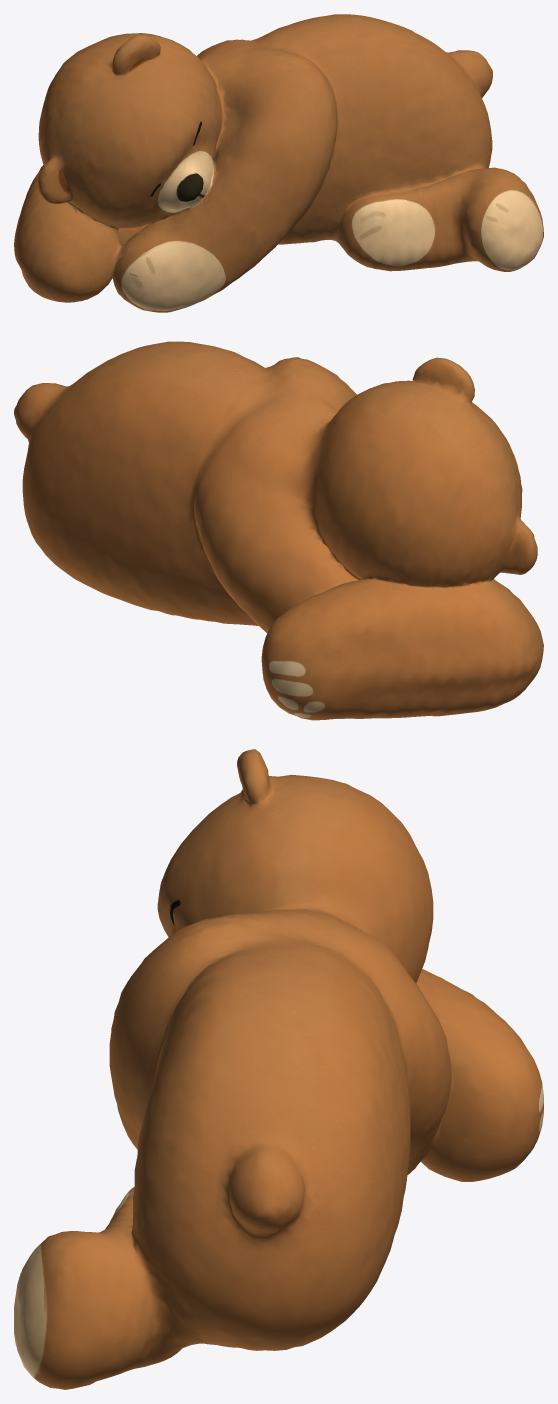
Rendered from bramble_bear.glb.
3 renders of one model, top to bottom at view 1: azimuth 30°, elevation 25°; view 2: azimuth 150°, elevation 25°; view 3: azimuth 270°, elevation 25°, orthographic. The views are drawn at different scales.
Size of the model in its own units: 1.91 by 1.07 by 1.26.
1 material, 1 textured.
